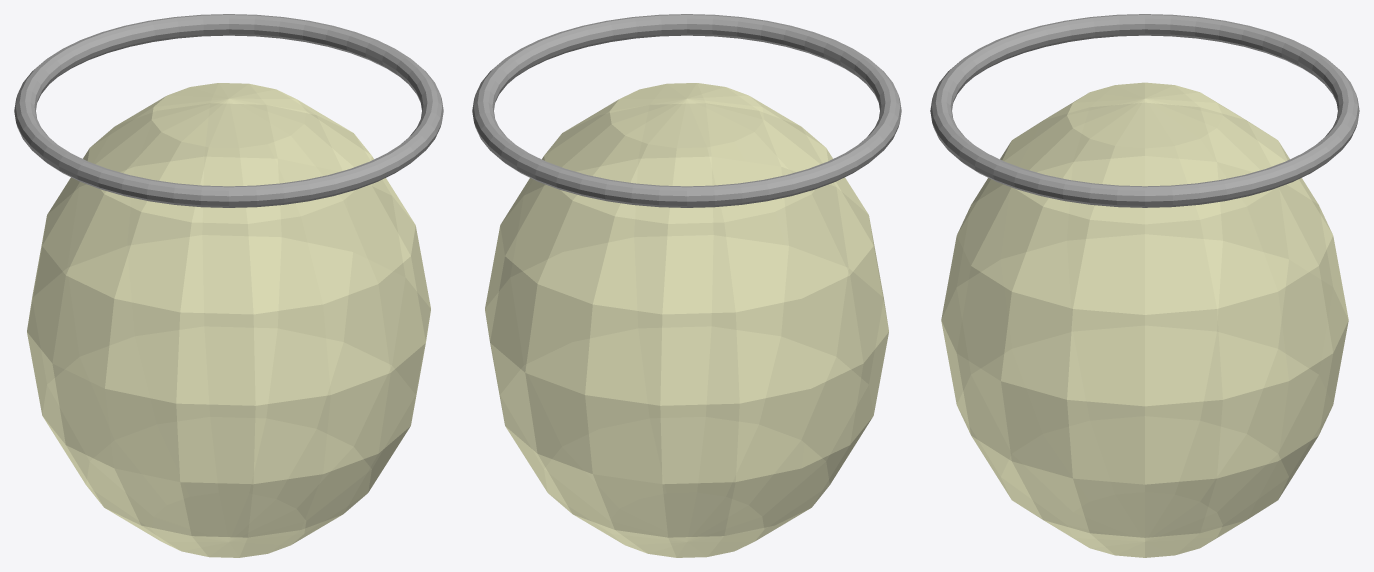
The model's file is laundry-net.glb.
3 renders of one model, left to right at view 1: azimuth 30°, elevation 25°; view 2: azimuth 150°, elevation 25°; view 3: azimuth 270°, elevation 25°, orthographic.
Visible parts, largest first — view 1: LaundryNet_Body, LaundryNet_Zipper; view 2: LaundryNet_Body, LaundryNet_Zipper; view 3: LaundryNet_Body, LaundryNet_Zipper.
Boxes of the visible parts, x1,y1,x2,y2 form: LaundryNet_Body: (27,83,430,557); LaundryNet_Zipper: (14,14,443,207); LaundryNet_Body: (485,83,888,557); LaundryNet_Zipper: (472,14,901,207); LaundryNet_Body: (941,82,1348,557); LaundryNet_Zipper: (930,14,1359,207).
Bounding box in the file's own units: 0.316 × 0.36 × 0.316.
